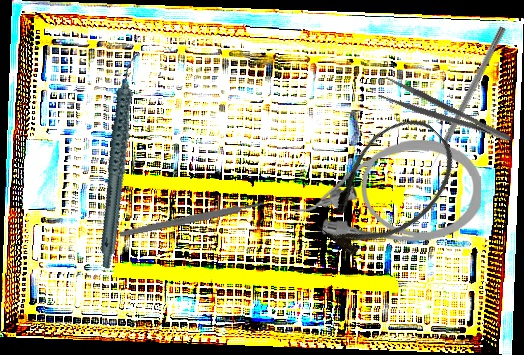Cannula: (302, 102, 472, 275), (291, 137, 483, 247)
Dressing Forceps: (377, 74, 513, 156)
Handpiece: (57, 50, 183, 270)
Pusher: (425, 25, 507, 172)
Scalpel Handle: (118, 199, 266, 239)
